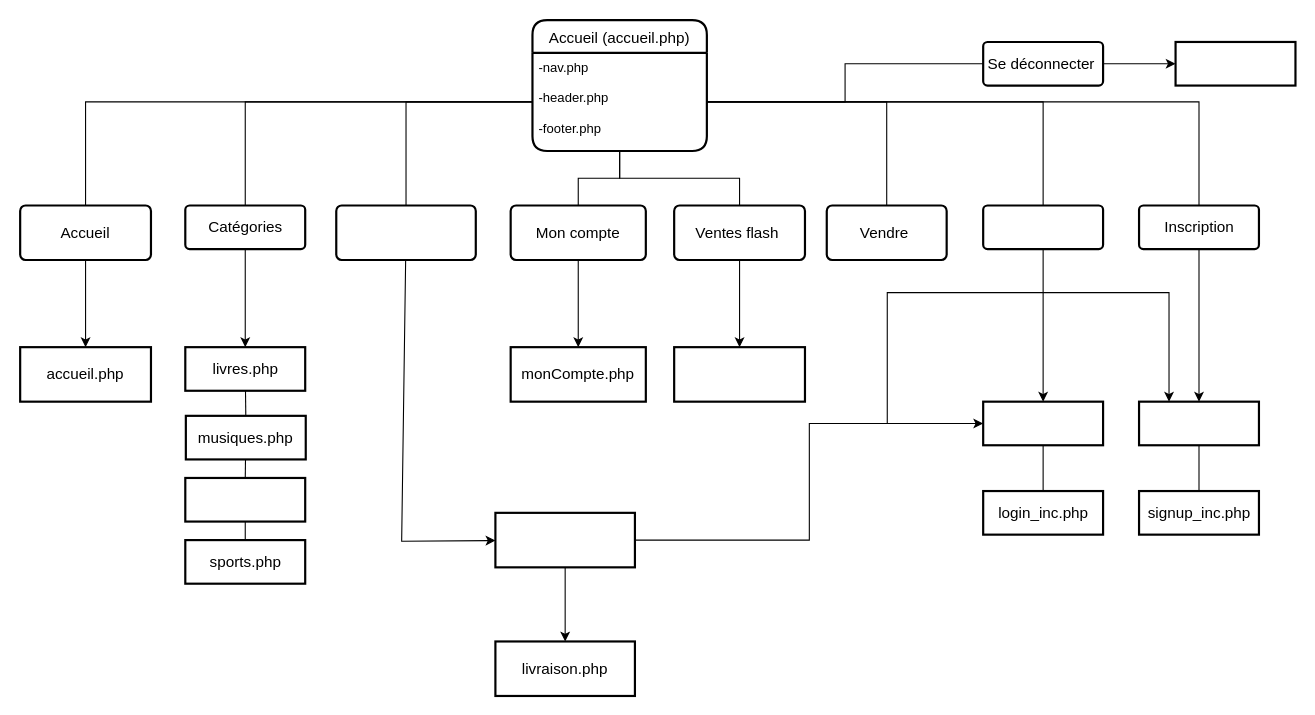
The diagram is 1315 pixels wide and 715 high, and some of its shapes have lost their labels. Here are the shapes that lost their labels. From the top down, the box of each, then its label:
(1174, 40, 1296, 86): logout_inc.php
(335, 204, 476, 261): Mon panier
(982, 204, 1104, 250): Se connecter
(673, 346, 806, 402): ventesflash.php
(982, 400, 1104, 446): login.php
(1137, 400, 1259, 446): signup.php
(184, 476, 306, 522): vetements.php
(494, 511, 635, 568): panier.php
